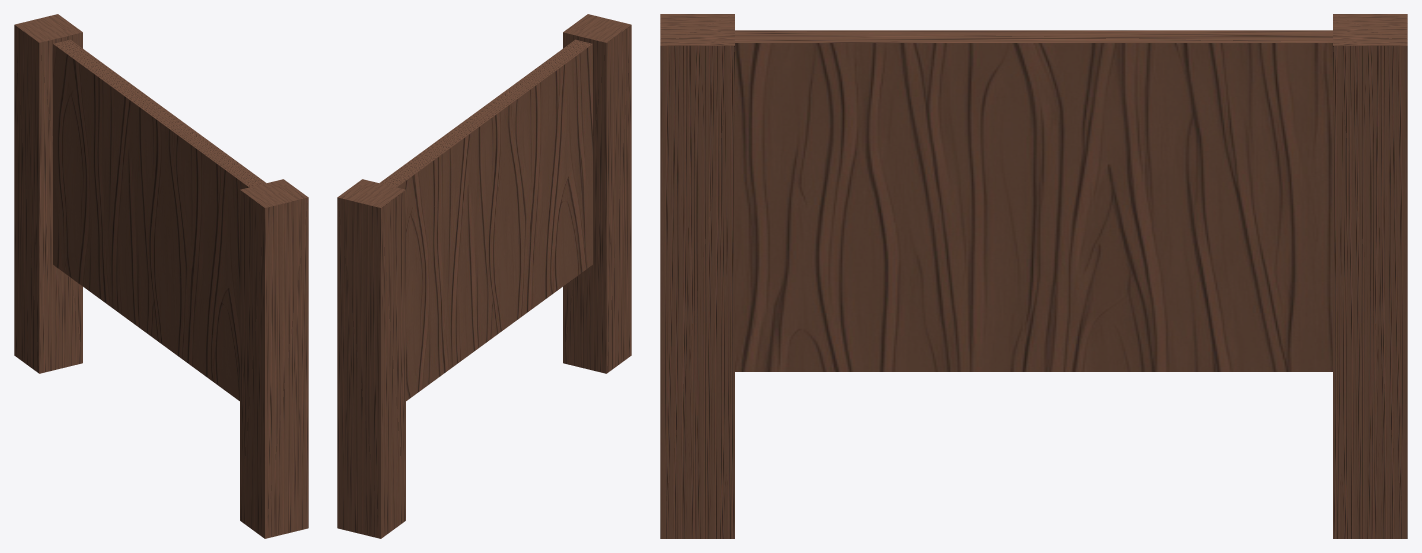
File: Sign_Board.obj
3 renders of one model, left to right at view 1: azimuth 30°, elevation 25°; view 2: azimuth 150°, elevation 25°; view 3: azimuth 270°, elevation 25°, orthographic. The views are drawn at different scales.
Parts seen in each view (by area): view 1: Cube; view 2: Cube; view 3: Cube.
Part boxes in pixels (bbox=[...]): Cube: bbox=[14, 14, 308, 538]; Cube: bbox=[337, 14, 631, 538]; Cube: bbox=[660, 14, 1407, 538].
Size of the model in its own units: 0.5796 by 4.2 by 5.77.
